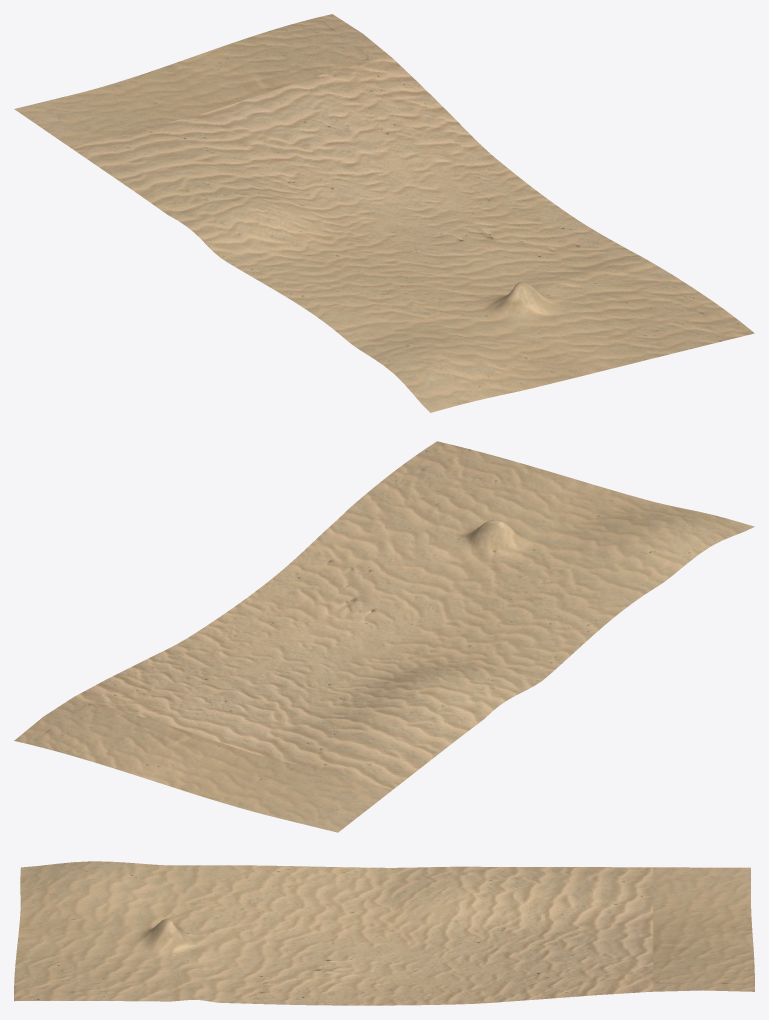
Rendered from aretz2.gltf.
3 renders of one model, top to bottom at view 1: azimuth 30°, elevation 25°; view 2: azimuth 150°, elevation 25°; view 3: azimuth 270°, elevation 25°, orthographic. The views are drawn at different scales.
Parts seen in each view (by area): view 1: Plane; view 2: Plane; view 3: Plane.
Part boxes in pixels (x1,y1,x2,y2): Plane: (14,14,754,412); Plane: (14,441,754,832); Plane: (14,861,754,1005).
Size of the model in its own units: 249 by 26.52 by 566.
1 material, 1 textured.
